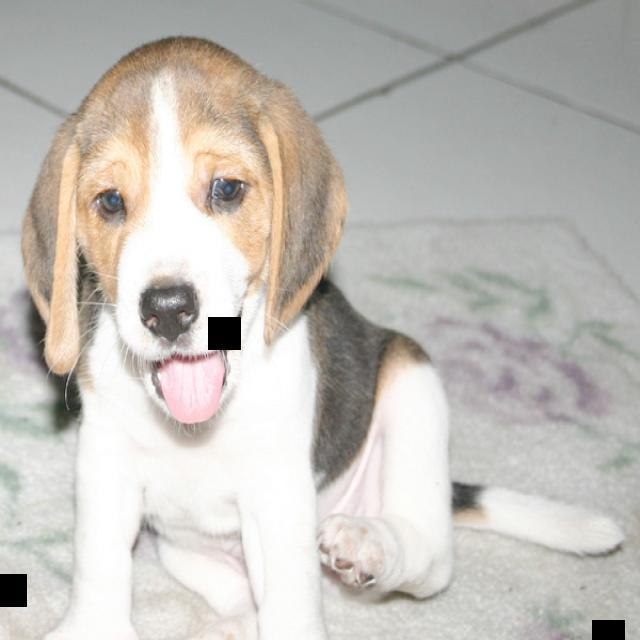puppy-dog: (18, 31, 627, 640)
